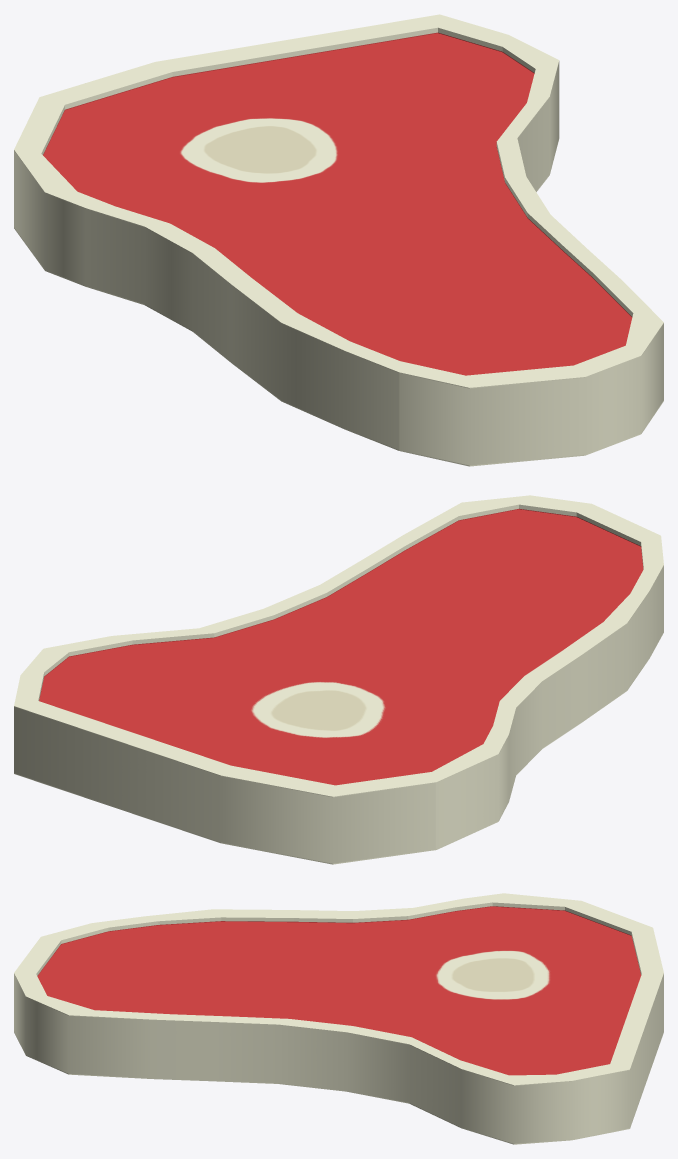
The model's file is Raw_Steak_01.fbx.
3 views of the same model, one above another, from view 1: azimuth 30°, elevation 25°; view 2: azimuth 150°, elevation 25°; view 3: azimuth 270°, elevation 25° (orthographic). The views are drawn at different scales.
Parts seen in each view (by area): view 1: pCylinder1; view 2: pCylinder1; view 3: pCylinder1.
Boxes of the visible parts, x1,y1,x2,y2 form: pCylinder1: [14, 14, 663, 466]; pCylinder1: [14, 495, 663, 864]; pCylinder1: [14, 893, 663, 1144].
Size of the model in its own units: 5.74 by 0.8283 by 8.21.
